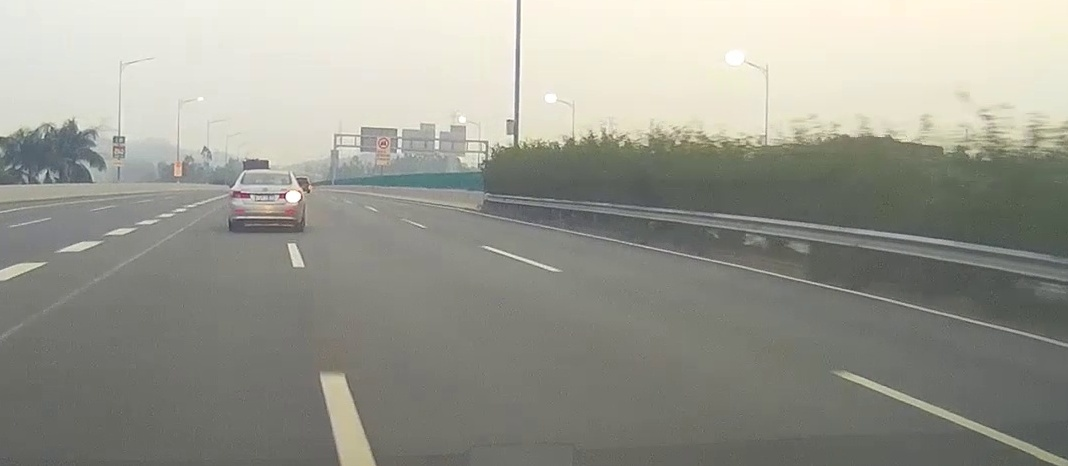L_light: (230, 190, 251, 198)
R_light: (279, 192, 302, 199)
T_light: (264, 173, 274, 176)
day-right: (228, 169, 304, 232)
